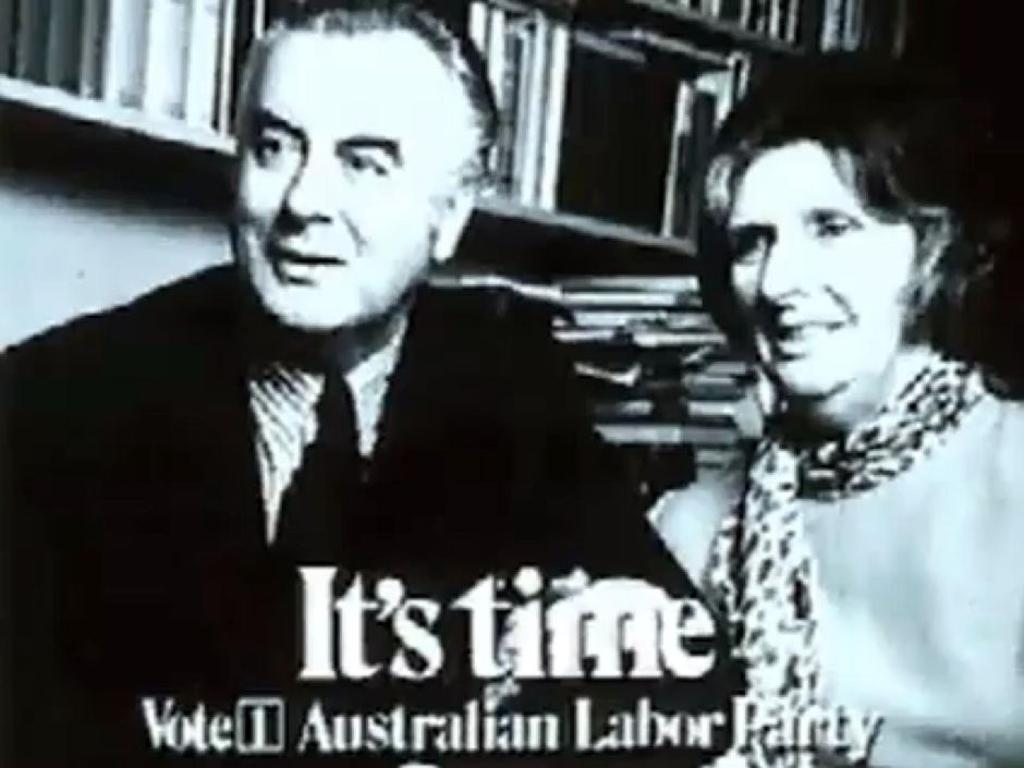face: (242, 38, 434, 328), (724, 160, 892, 394)
